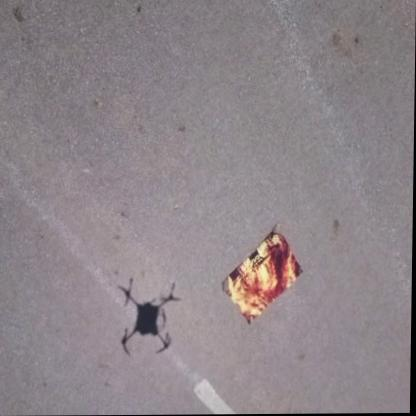fire-poster: (221, 224, 304, 327)
